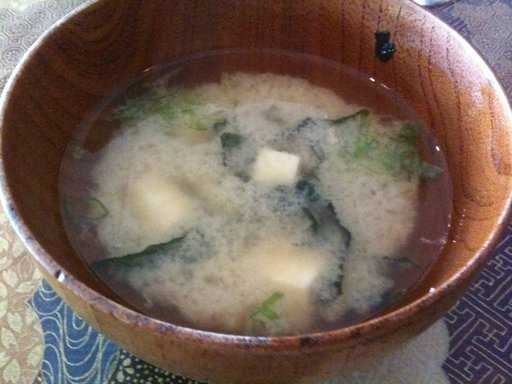soup: (40, 56, 461, 316)
